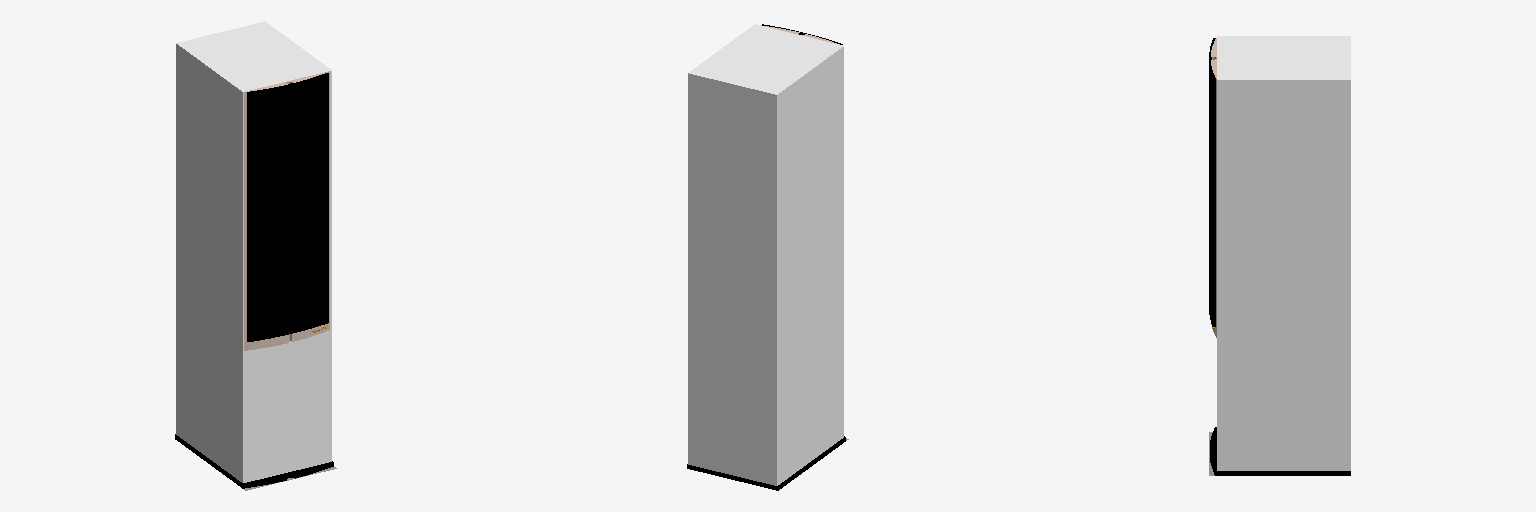
File: Bocina.obj
3 renders of one model, left to right at view 1: azimuth 30°, elevation 25°; view 2: azimuth 150°, elevation 25°; view 3: azimuth 270°, elevation 25°, orthographic.
Visible parts, largest first — view 1: Cube_2_1_2, Boolean_6_2_3, Boolean_1_14_15, Boolean_10_3_4; view 2: Cube_2_1_2, Boolean_10_3_4; view 3: Cube_2_1_2, Boolean_6_2_3, Boolean_10_3_4.
Boxes of the visible parts, x1,y1,x2,y2 form: Cube_2_1_2: [176, 21, 331, 482]; Boolean_6_2_3: [247, 73, 328, 341]; Boolean_1_14_15: [244, 71, 329, 350]; Boolean_10_3_4: [175, 434, 333, 488]; Cube_2_1_2: [688, 24, 843, 485]; Boolean_10_3_4: [687, 436, 845, 490]; Cube_2_1_2: [1217, 36, 1350, 470]; Boolean_6_2_3: [1209, 38, 1215, 326]; Boolean_10_3_4: [1210, 427, 1350, 475].
Size of the model in its own units: 22 by 91 by 29.6.